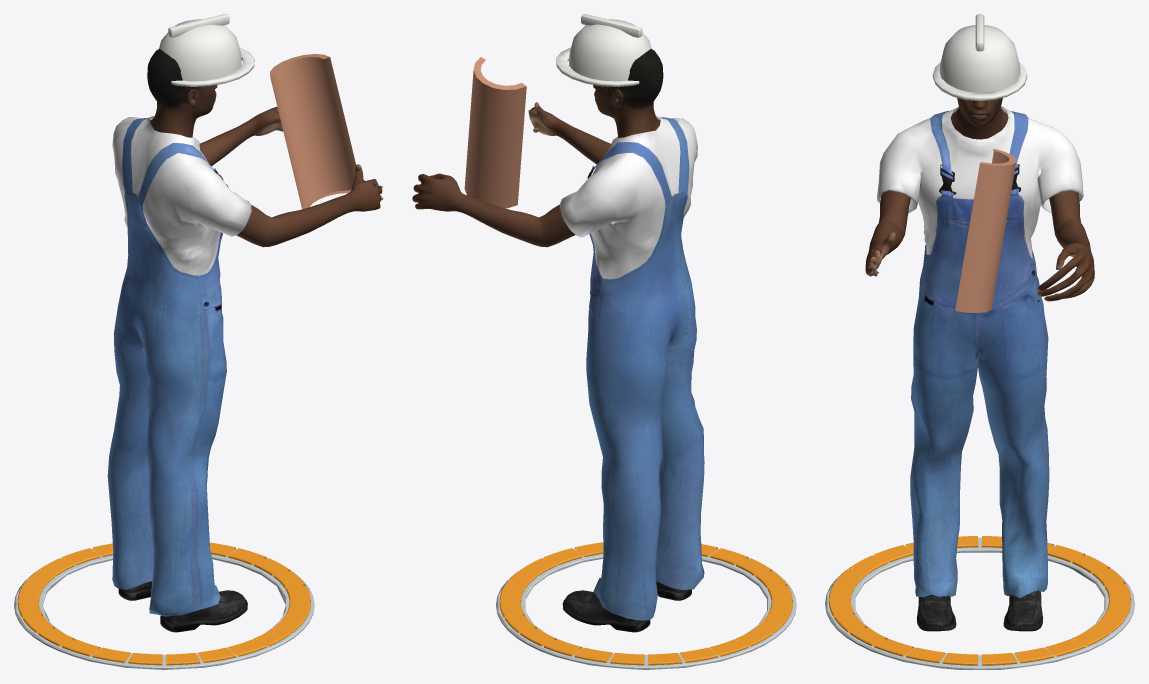
Rendered from MDO-OBR-008_lod1.glb.
3 views of the same model, side by side, from view 1: azimuth 30°, elevation 25°; view 2: azimuth 150°, elevation 25°; view 3: azimuth 270°, elevation 25° (orthographic). The views are drawn at different scales.
Parts seen in each view (by area): view 1: MDO-OBR-008_pessoa_male_worksuit01, MDO-OBR-008_pessoa, MDO-OBR-008_ferD_telha, MDO-OBR-008_capacete, MDO-OBR-008_anel_fundo, MDO-OBR-008_pessoa_shoes04, MDO-OBR-008_capacete_aba, MDO-OBR-008_capacete_friso; view 2: MDO-OBR-008_pessoa_male_worksuit01, MDO-OBR-008_pessoa, MDO-OBR-008_ferD_telha, MDO-OBR-008_capacete, MDO-OBR-008_anel_fundo, MDO-OBR-008_pessoa_shoes04, MDO-OBR-008_capacete_aba, MDO-OBR-008_capacete_friso; view 3: MDO-OBR-008_pessoa_male_worksuit01, MDO-OBR-008_pessoa, MDO-OBR-008_ferD_telha, MDO-OBR-008_capacete, MDO-OBR-008_anel_fundo, MDO-OBR-008_pessoa_shoes04, MDO-OBR-008_capacete_aba.
Boxes of the visible parts, x1,y1,x2,y2 form: MDO-OBR-008_pessoa_male_worksuit01: (107, 116, 251, 616); MDO-OBR-008_pessoa: (147, 49, 383, 247); MDO-OBR-008_ferD_telha: (270, 54, 355, 209); MDO-OBR-008_capacete: (159, 19, 241, 81); MDO-OBR-008_anel_fundo: (14, 549, 314, 669); MDO-OBR-008_pessoa_shoes04: (118, 581, 247, 632); MDO-OBR-008_capacete_aba: (171, 47, 254, 86); MDO-OBR-008_capacete_friso: (168, 14, 229, 37); MDO-OBR-008_pessoa_male_worksuit01: (559, 116, 704, 620); MDO-OBR-008_pessoa: (412, 49, 663, 247); MDO-OBR-008_ferD_telha: (464, 57, 526, 208); MDO-OBR-008_capacete: (569, 19, 651, 81); MDO-OBR-008_anel_fundo: (496, 549, 796, 669); MDO-OBR-008_pessoa_shoes04: (562, 574, 691, 632); MDO-OBR-008_capacete_aba: (556, 47, 639, 86); MDO-OBR-008_capacete_friso: (581, 14, 642, 37); MDO-OBR-008_pessoa_male_worksuit01: (877, 106, 1083, 598); MDO-OBR-008_pessoa: (865, 98, 1094, 301); MDO-OBR-008_ferD_telha: (955, 148, 1016, 312); MDO-OBR-008_capacete: (939, 25, 1020, 92); MDO-OBR-008_anel_fundo: (825, 537, 1134, 669); MDO-OBR-008_pessoa_shoes04: (916, 590, 1043, 631); MDO-OBR-008_capacete_aba: (932, 62, 1027, 101).
Bounding box in the file's own units: 1.03 × 1.79 × 0.84.
9 materials, 5 textured.
